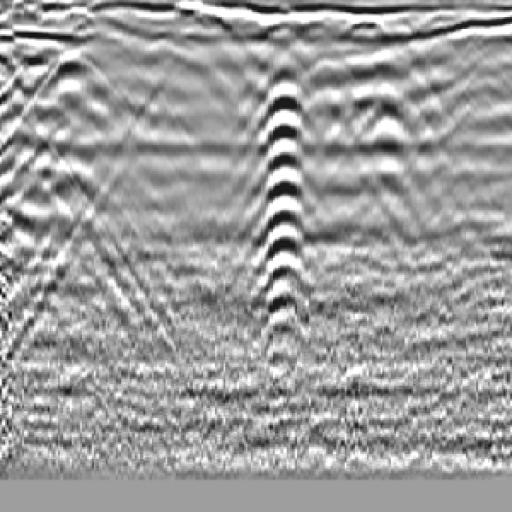non-metallic: (217, 48, 350, 372), (1, 39, 143, 273)
